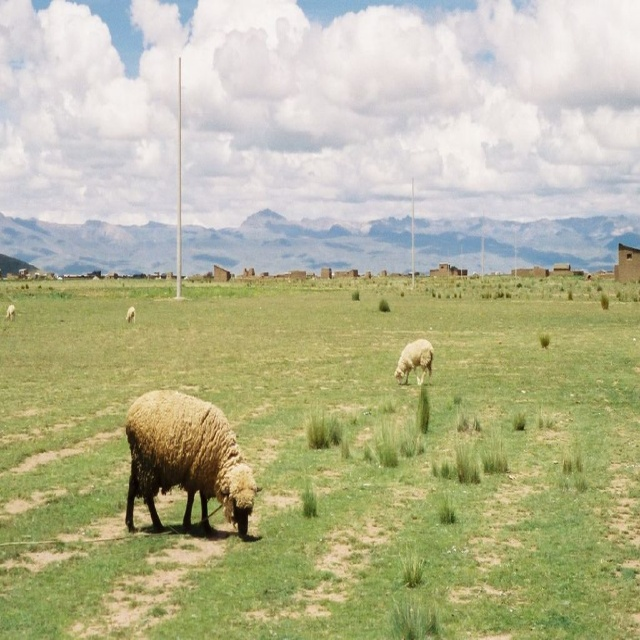Sheep: (124, 388, 264, 540), (394, 337, 432, 392), (5, 301, 16, 320), (128, 305, 134, 321)
